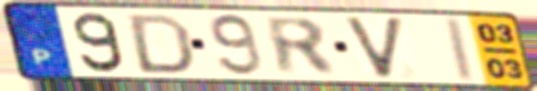9: (209, 12, 268, 79), (71, 11, 127, 75)
D: (127, 12, 196, 76)
I: (446, 15, 480, 84)
R: (260, 14, 342, 78)
V: (339, 15, 408, 81)
